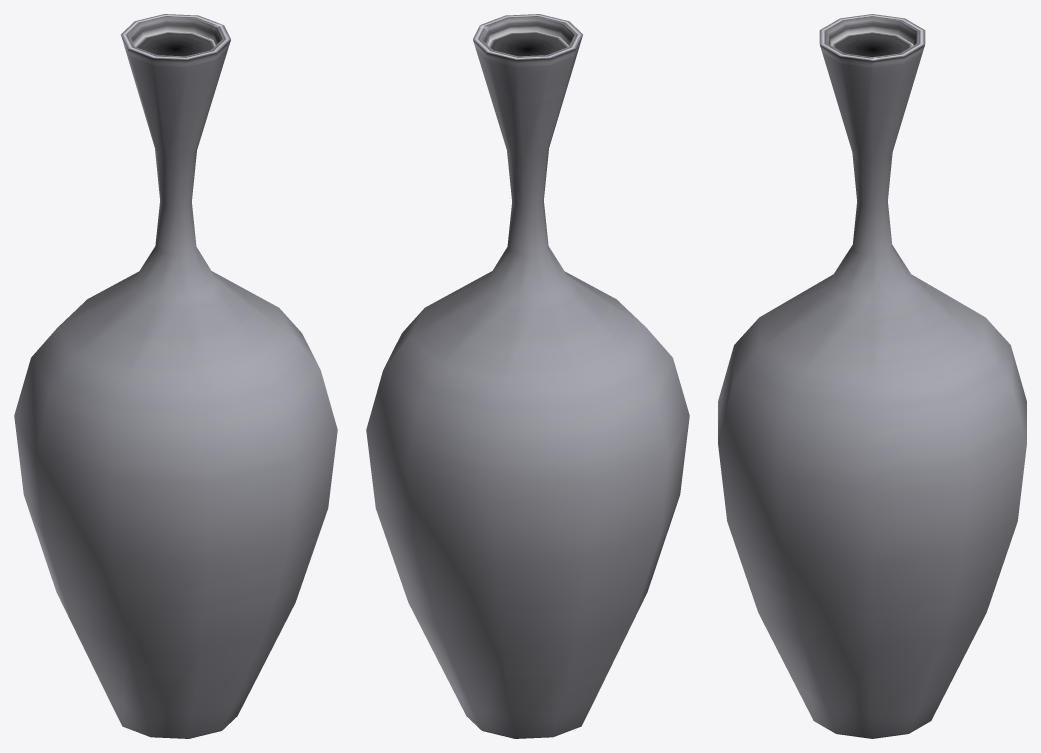
File: Vase01B.FBX
3 views of the same model, side by side, from view 1: azimuth 30°, elevation 25°; view 2: azimuth 150°, elevation 25°; view 3: azimuth 270°, elevation 25° (orthographic).
Parts seen in each view (by area): view 1: Vase01B; view 2: Vase01B; view 3: Vase01B.
Part boxes in pixels (left/top/right/bottom): Vase01B: left=14, top=14, right=337, bottom=738; Vase01B: left=366, top=14, right=689, bottom=738; Vase01B: left=718, top=14, right=1026, bottom=738.
Size of the model in its own units: 27.55 by 26.2 by 63.2.
